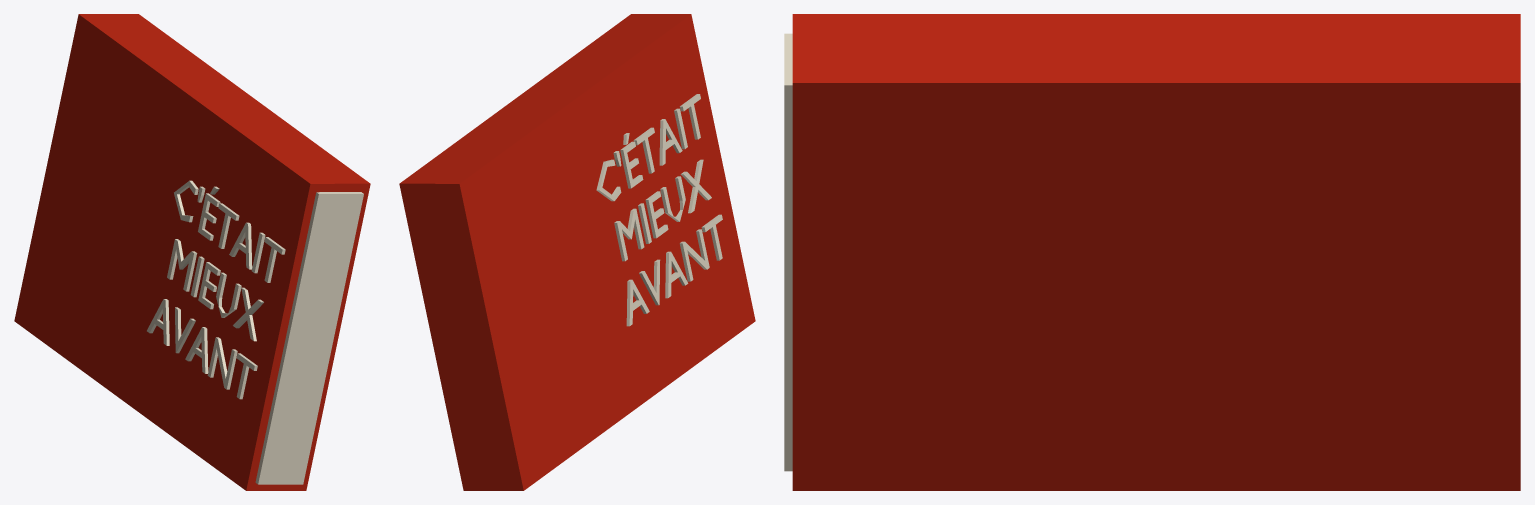
The model's file is le-z-book.glb.
The picture shows the model from 3 angles, left to right: view 1: azimuth 30°, elevation 25°; view 2: azimuth 150°, elevation 25°; view 3: azimuth 270°, elevation 25°; orthographic projection. The views are drawn at different scales.
Parts seen in each view (by area): view 1: le-z-book; view 2: le-z-book; view 3: le-z-book.
Part boxes in pixels (x1,y1,x2,y2): le-z-book: [14, 14, 370, 490]; le-z-book: [399, 14, 755, 490]; le-z-book: [784, 14, 1520, 490].
Size of the model in its own units: 0.0806 by 0.1893 by 0.263.
Materials: 1 (1 with a texture image).
